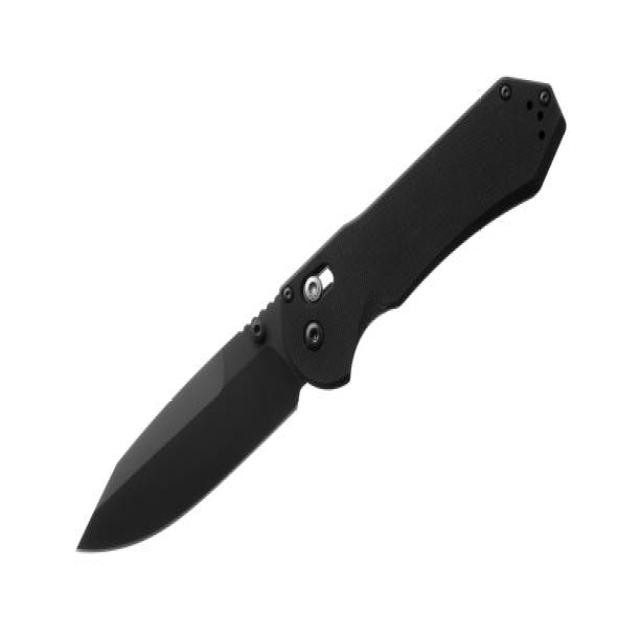knife: (75, 66, 568, 558)
